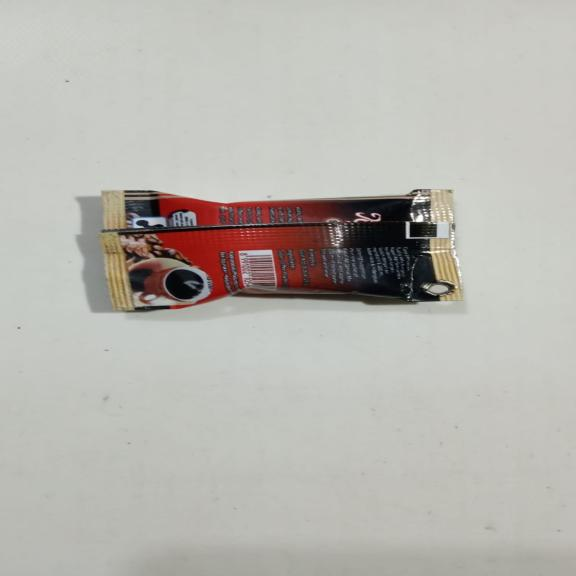Plastik: (96, 187, 464, 312)
